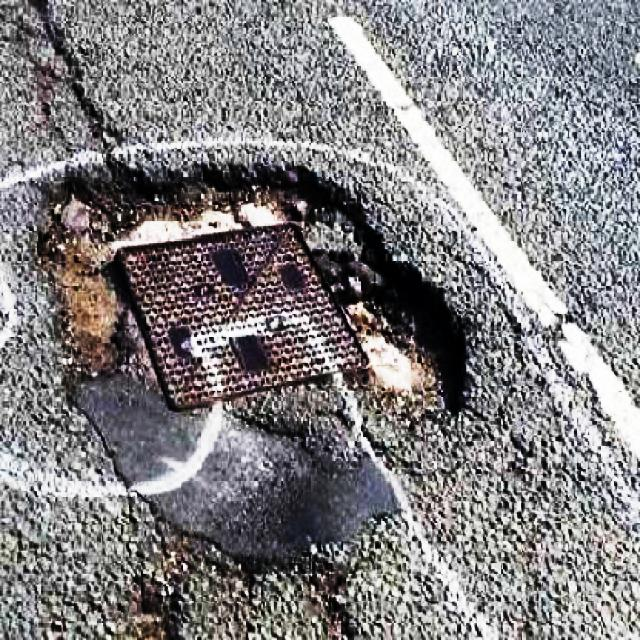pothole: (28, 155, 469, 431)
